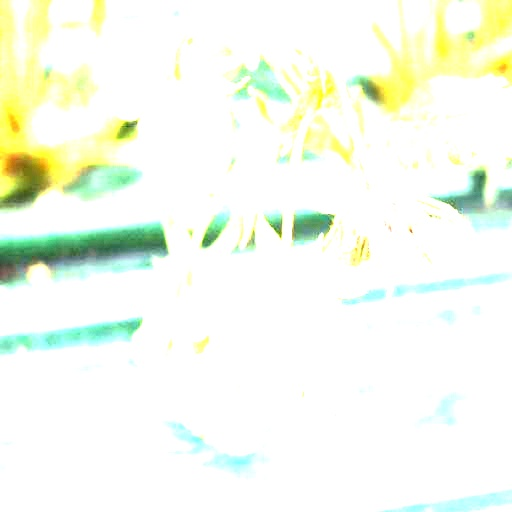Gray Mold: (310, 157, 466, 299)
